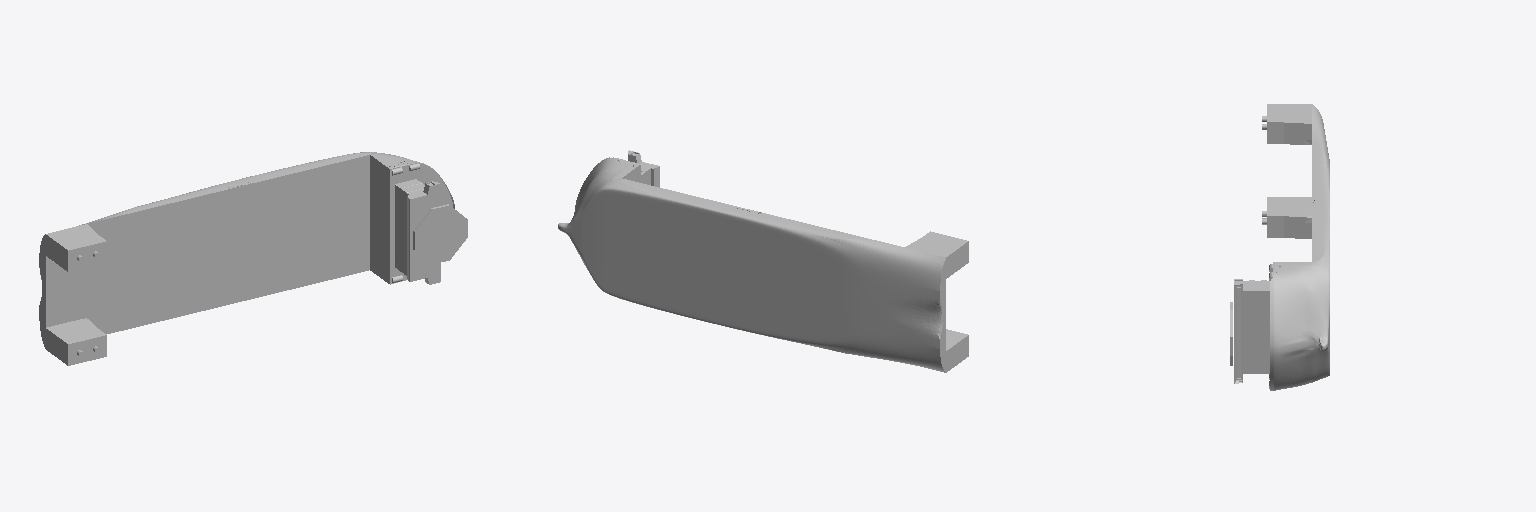
Rendered from visual vessel turtle.obj.
3 renders of one model, left to right at view 1: azimuth 30°, elevation 25°; view 2: azimuth 150°, elevation 25°; view 3: azimuth 270°, elevation 25°, orthographic.
Bounding box in the file's own units: 147 × 41.97 × 33.14.